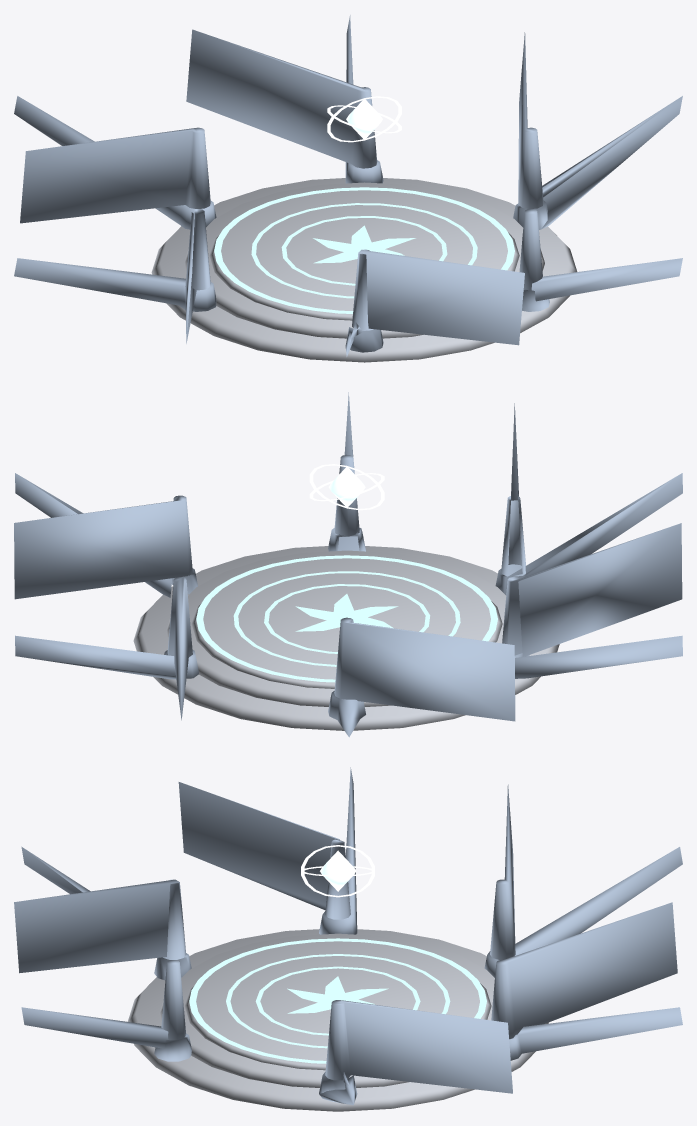
Rendered from Sanctum_Tier4_Zafiro_Combined.fbx.
3 renders of one model, top to bottom at view 1: azimuth 30°, elevation 25°; view 2: azimuth 150°, elevation 25°; view 3: azimuth 270°, elevation 25°, orthographic.
Visible parts, largest first — view 1: Sanctum_Tier4_Zafiro_Combined; view 2: Sanctum_Tier4_Zafiro_Combined; view 3: Sanctum_Tier4_Zafiro_Combined.
Boxes of the visible parts, left/top/right/bottom form: Sanctum_Tier4_Zafiro_Combined: left=14, top=15, right=682, bottom=362; Sanctum_Tier4_Zafiro_Combined: left=14, top=392, right=682, bottom=737; Sanctum_Tier4_Zafiro_Combined: left=14, top=767, right=682, bottom=1111.
Size of the model in its own units: 16.65 by 4.15 by 14.6.
